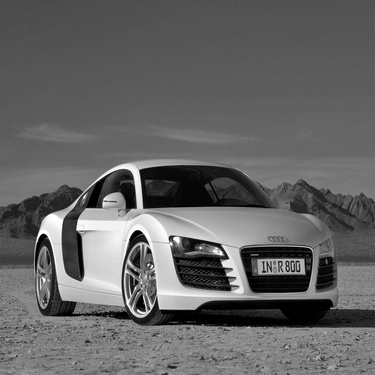car: (22, 158, 346, 324)
